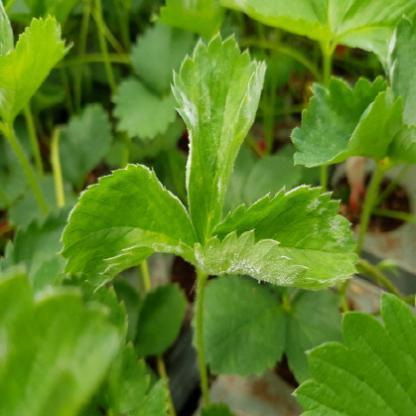Strawberry_Powdery_Mildew_Leaf: (169, 29, 269, 246), (58, 160, 200, 293), (192, 184, 362, 291)
